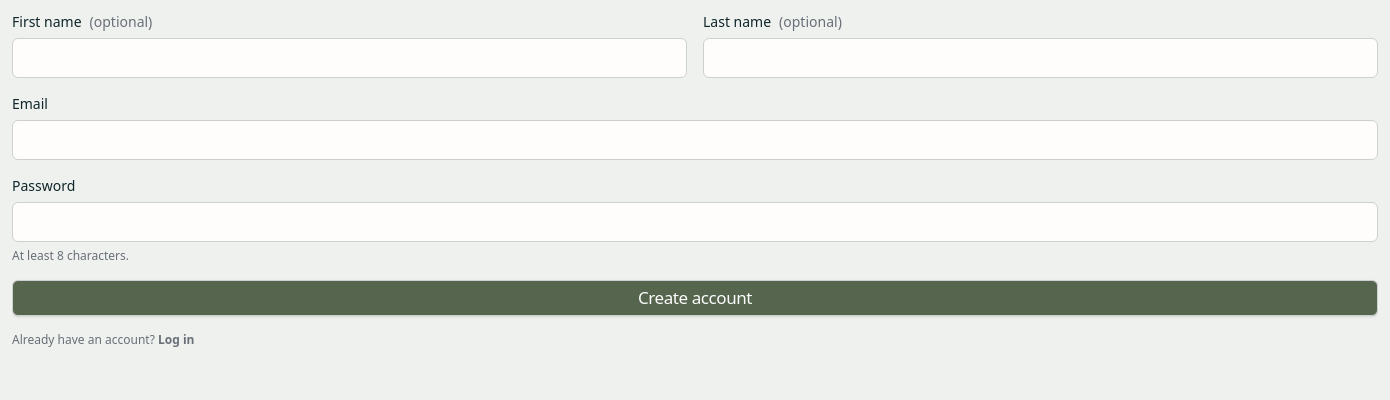
Test: JoinForm › shows the server error (e.g. duplicate email) and does not navigate
Type "jane@example.com" into the field labelled "Email" at (695, 140), box [12,120,1378,160]
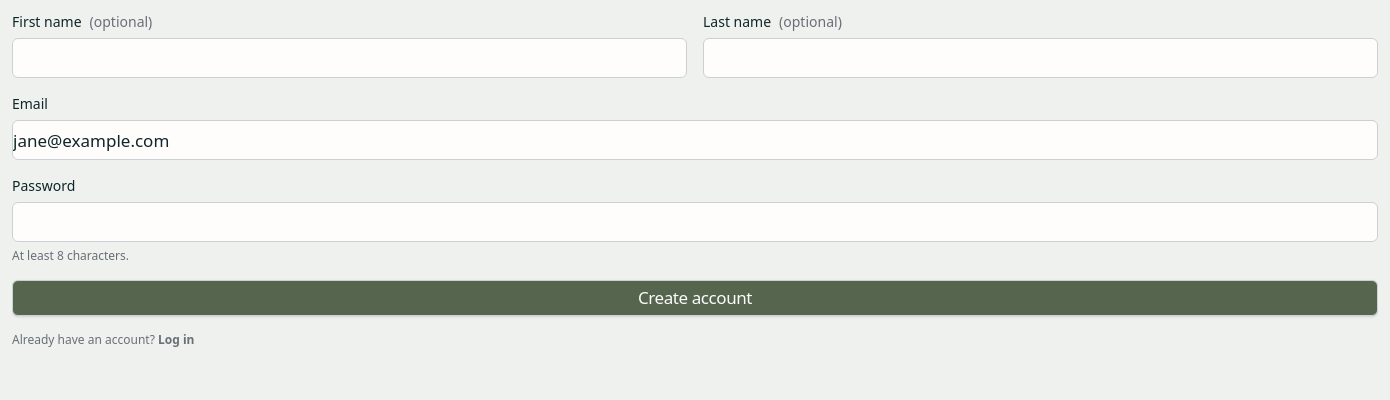
Type "somepassword1" into the password field labelled "Password" at (695, 222), box [12,202,1378,242]
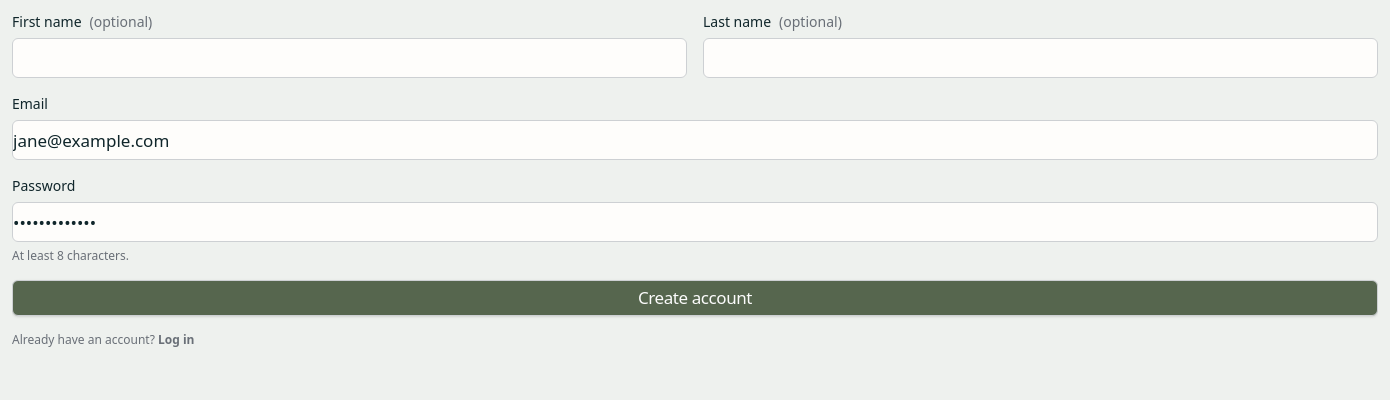
Click the button "Create account" at (695, 298), box [12,280,1378,316]
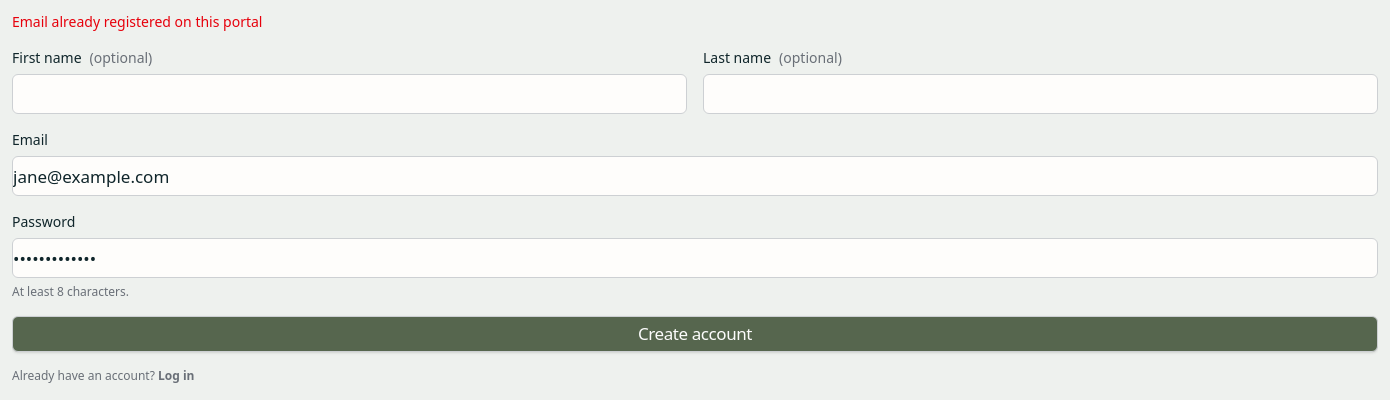
Check: the text "Email already registered on this portal" is shown, box [12,12,262,31]
